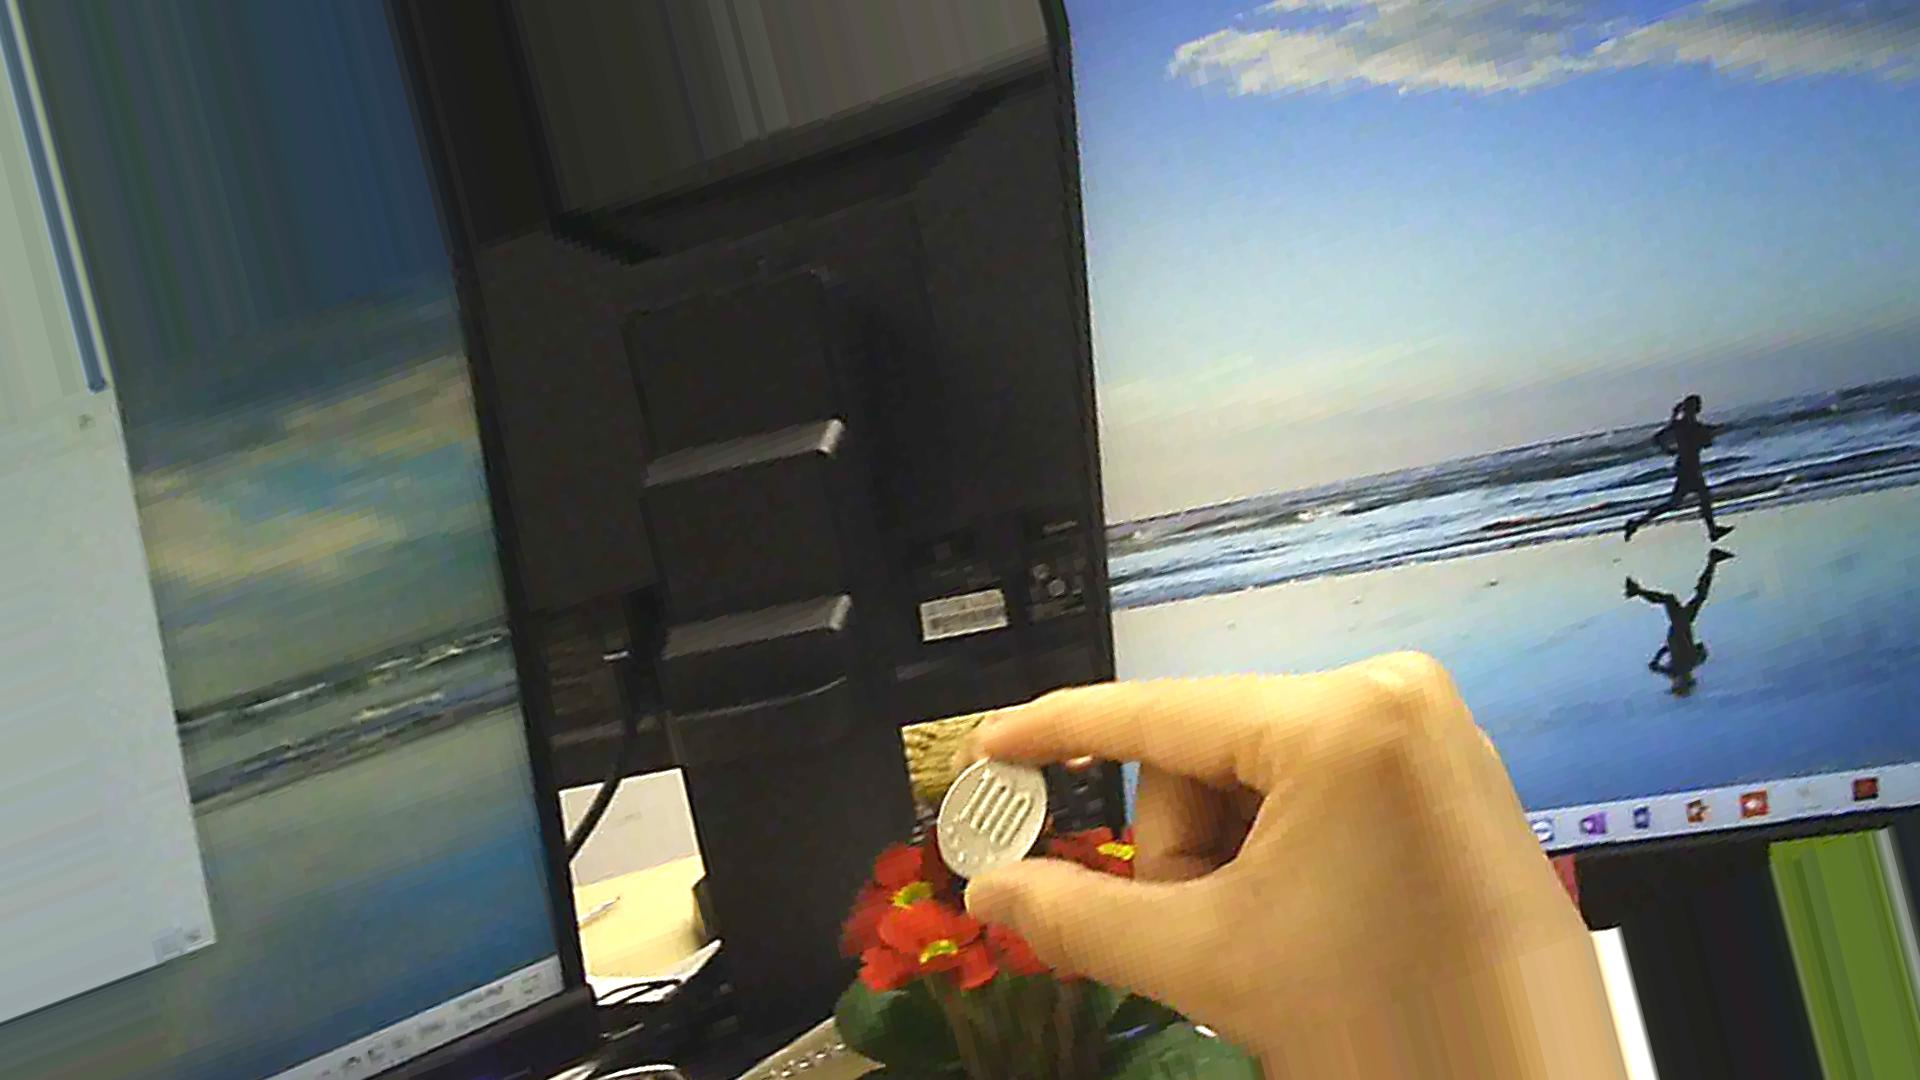100 Yen: (934, 750, 1040, 884)
